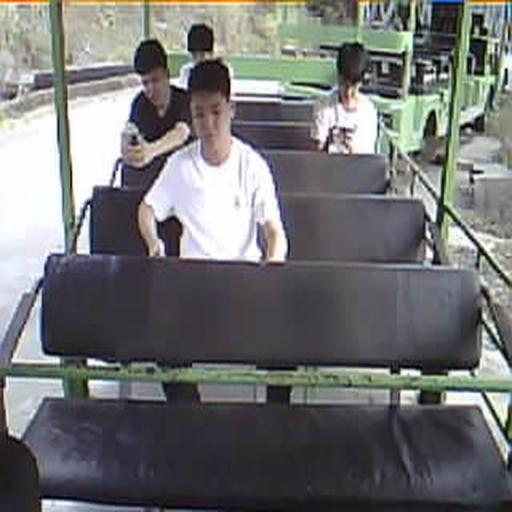persona: (137, 58, 289, 264), (120, 37, 194, 176), (309, 40, 380, 154), (176, 22, 216, 90)
